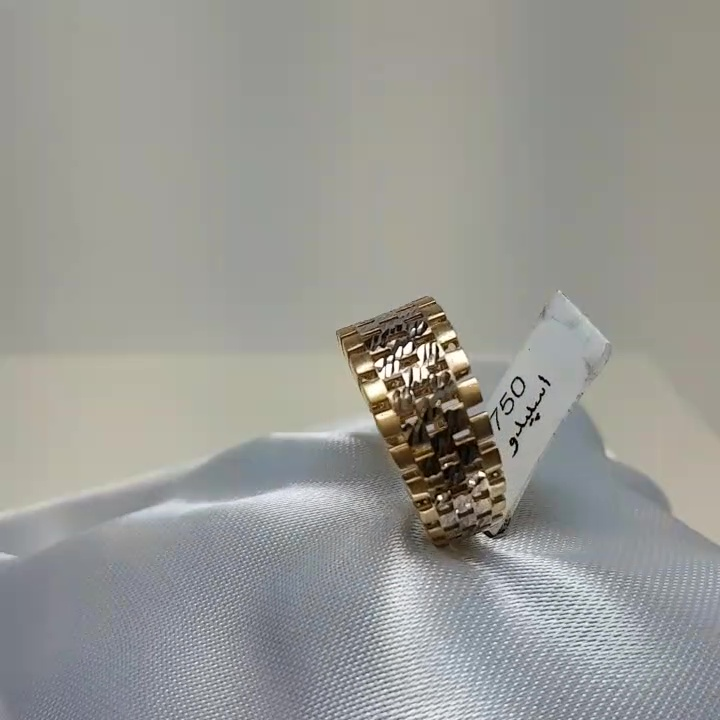Ring 1: (306, 274, 528, 552)
